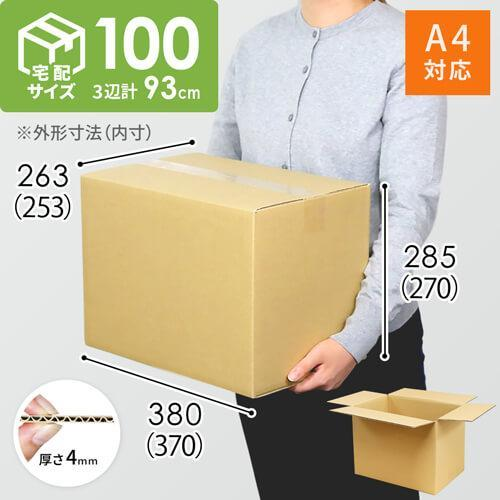box: (75, 153, 362, 400), (332, 373, 495, 491)
